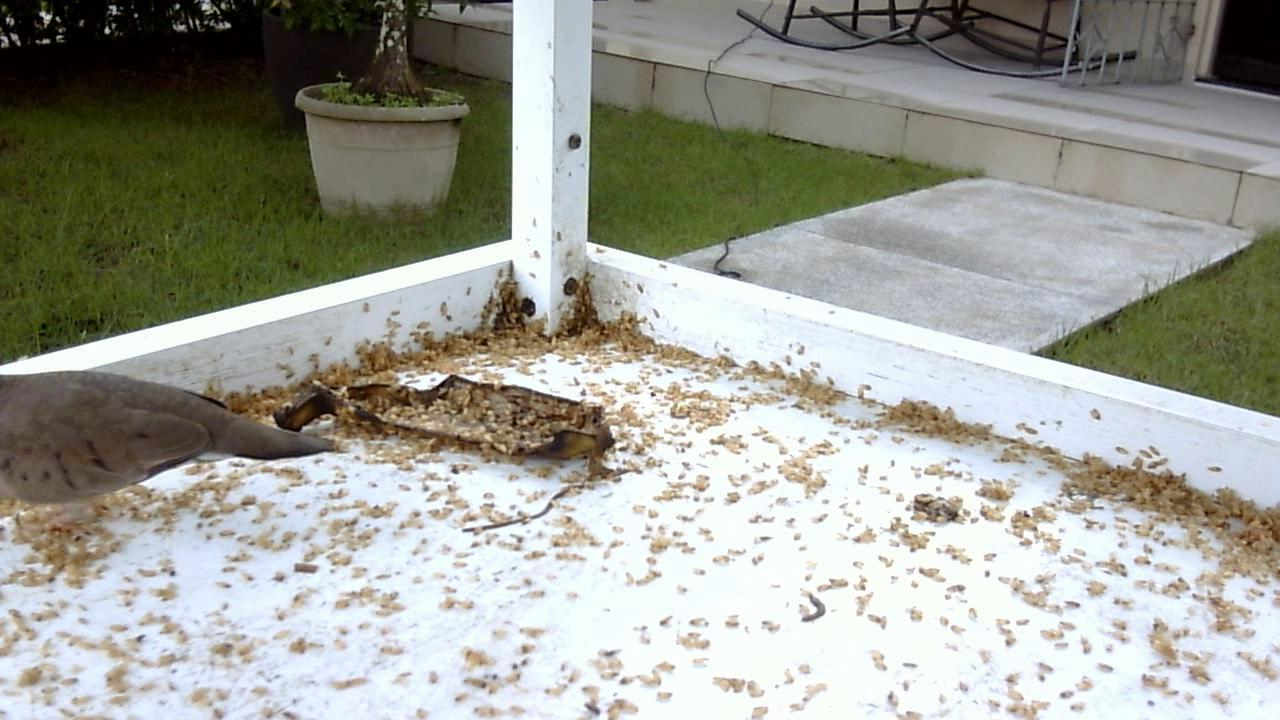rolinha: (1, 360, 334, 549)
